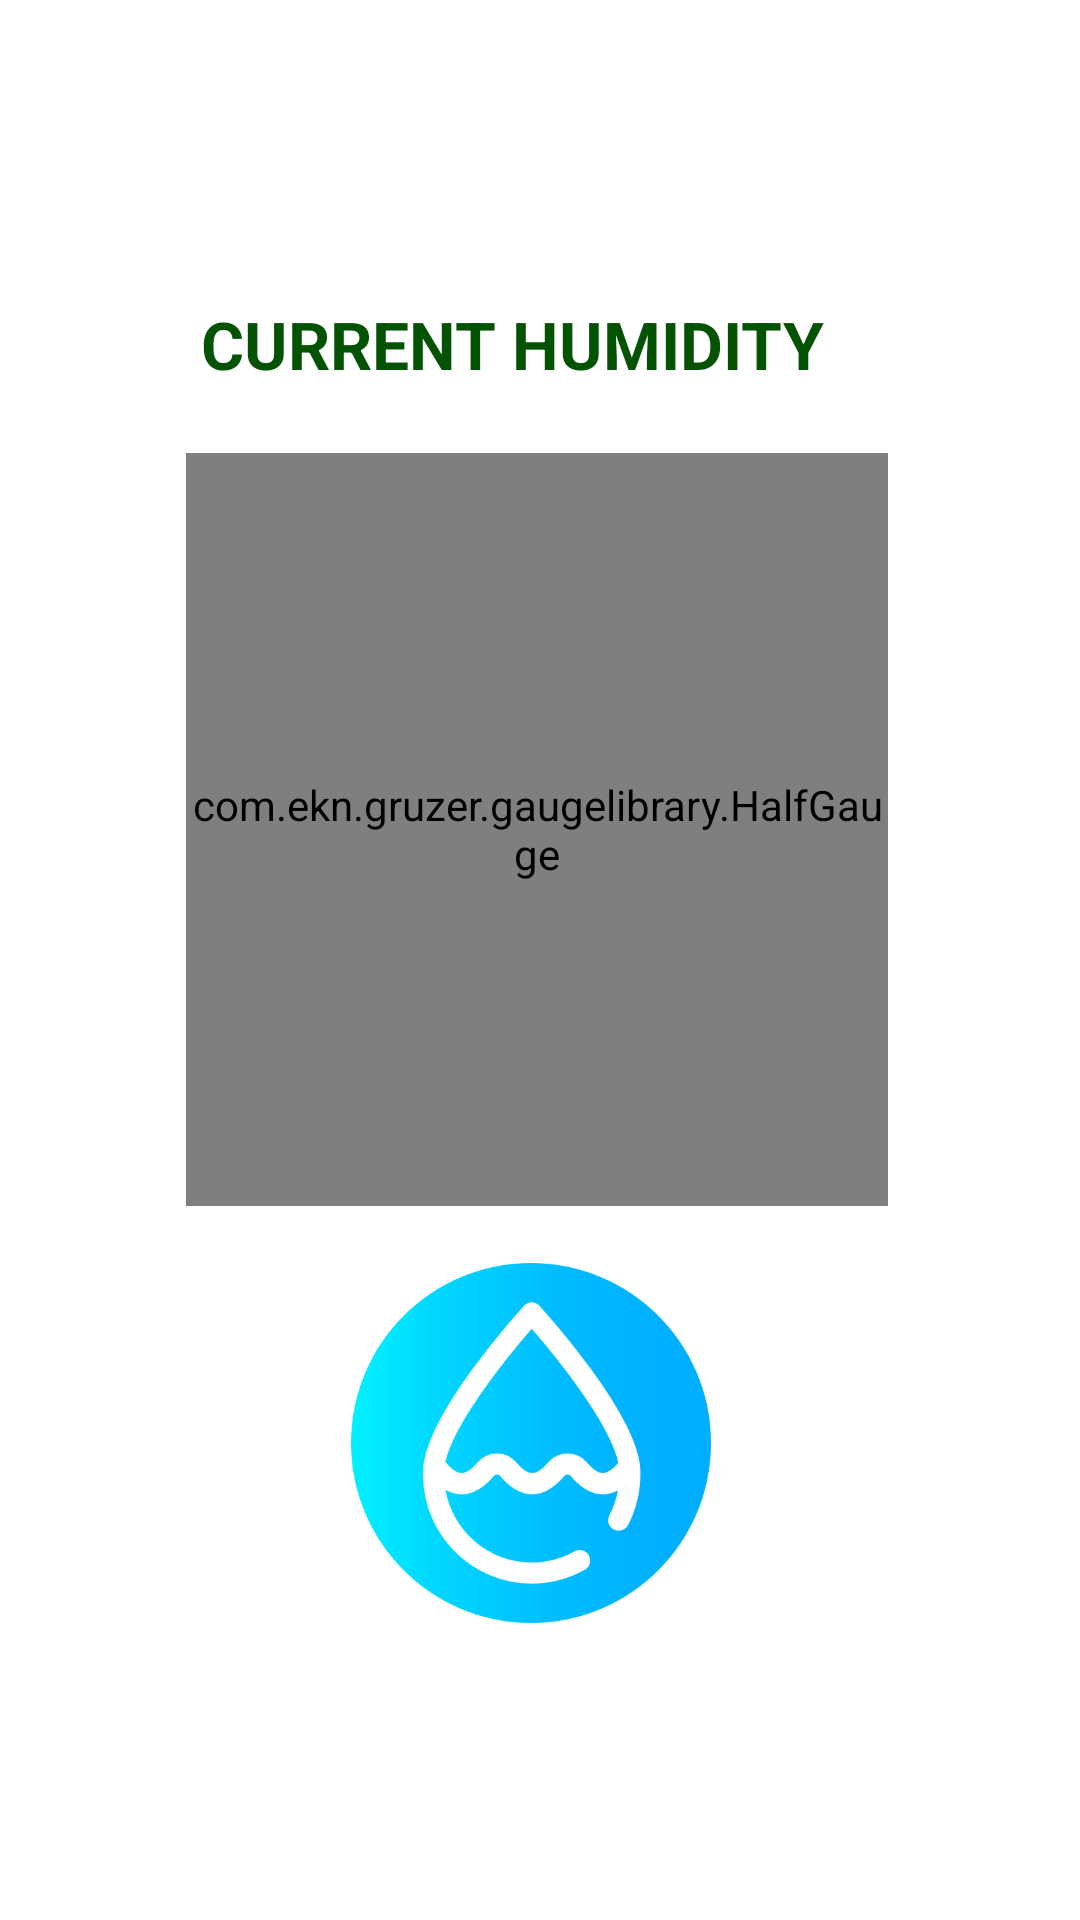

Icon bounding boxes for this 1080 x 1920 phone screenshot, format bbox=[x1, y1, x2, y2]:
humidity: bbox=[351, 1263, 711, 1623]
